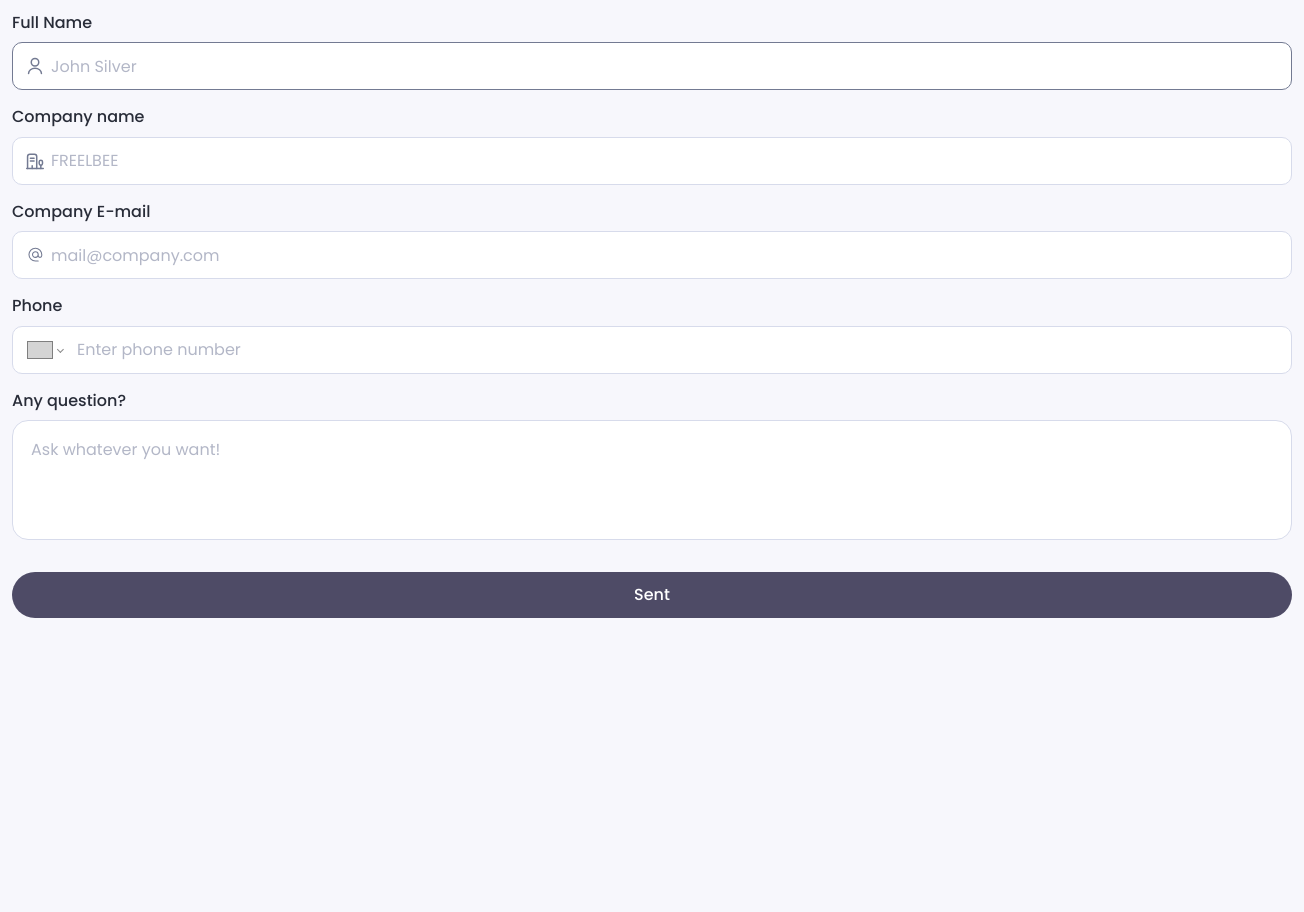
Test: Application form tests › should show erron if invalid email
Type "wrong.com" into the field with test id "landing-form-email" at x=652, y=255, box [12, 231, 1292, 279]
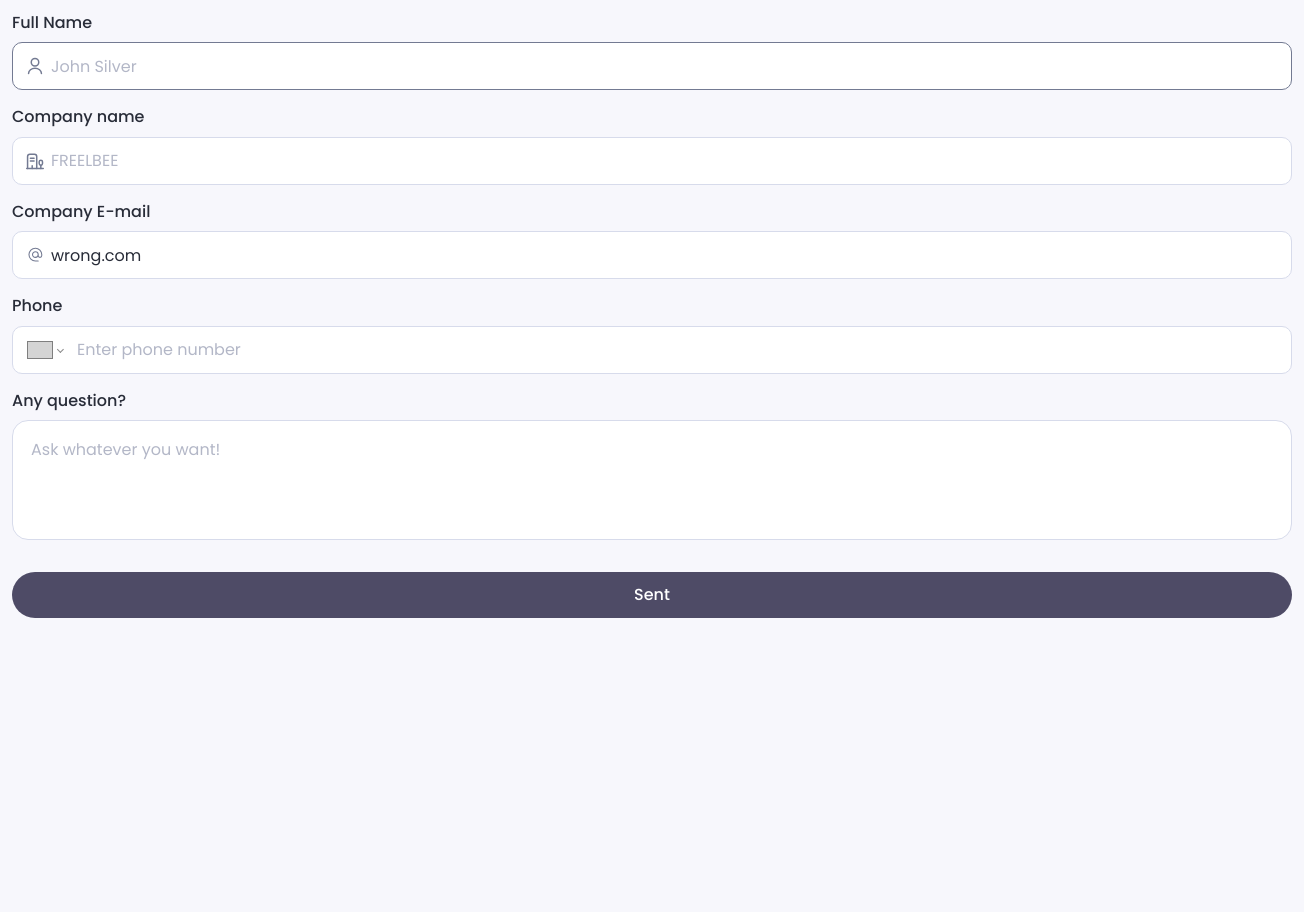
Type "9990091213" into the field with test id "landing-form-phone" at x=652, y=350, box [12, 326, 1292, 374]
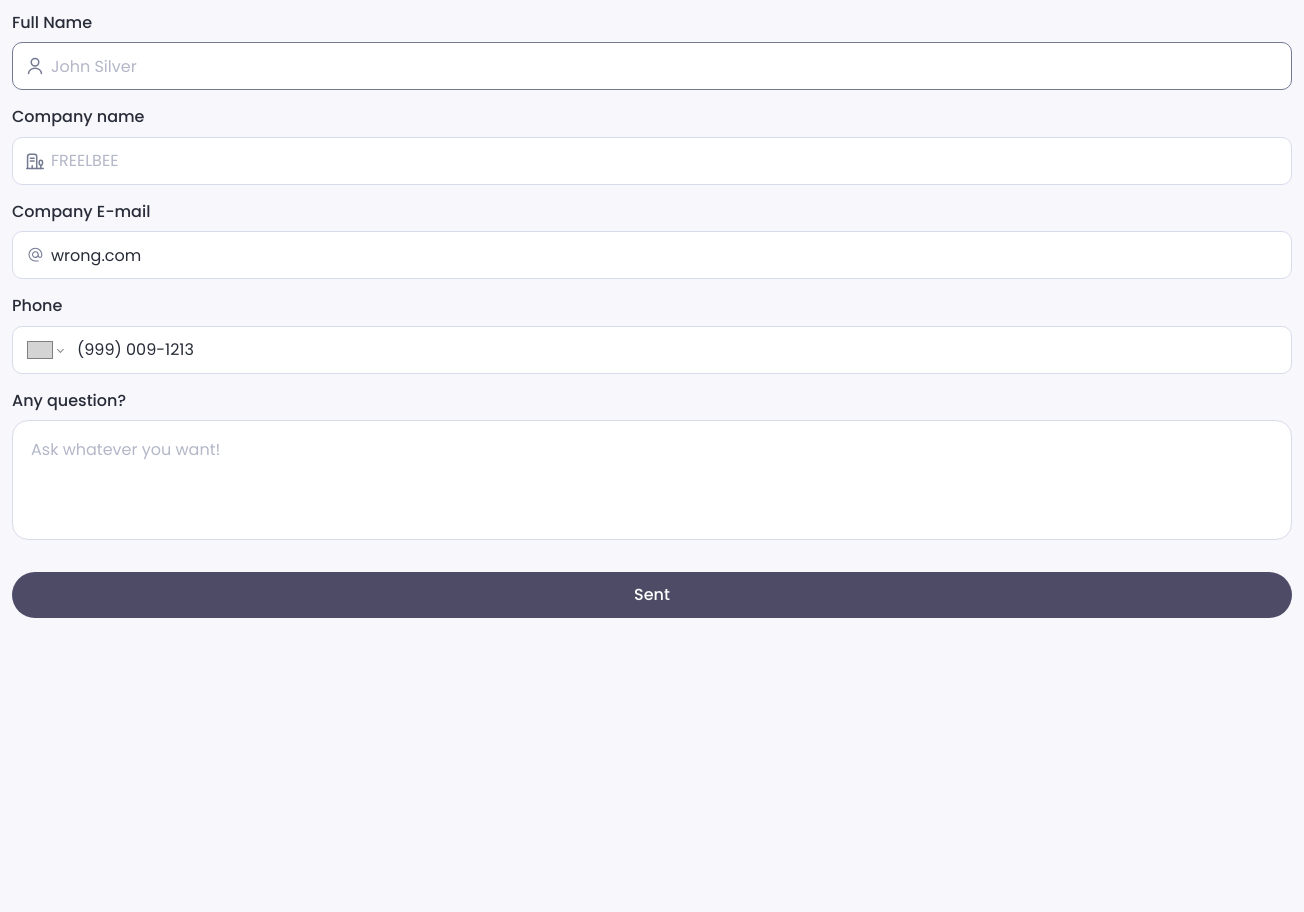
Type "Test Company" into the field with test id "landing-form-company" at x=652, y=161, box [12, 137, 1292, 185]
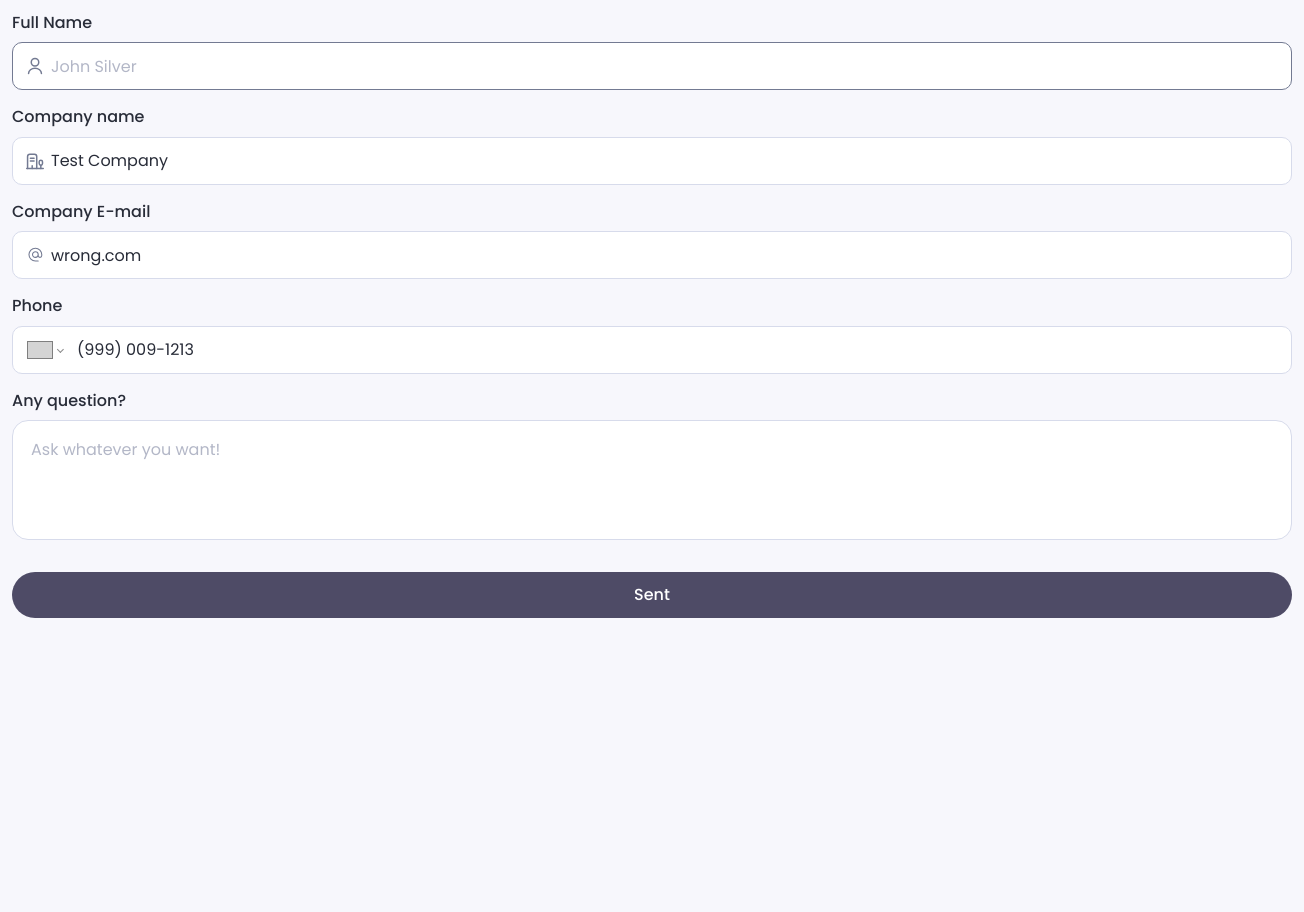
Type "User Name" into the field with test id "landing-form-name" at x=652, y=66, box [12, 42, 1292, 90]
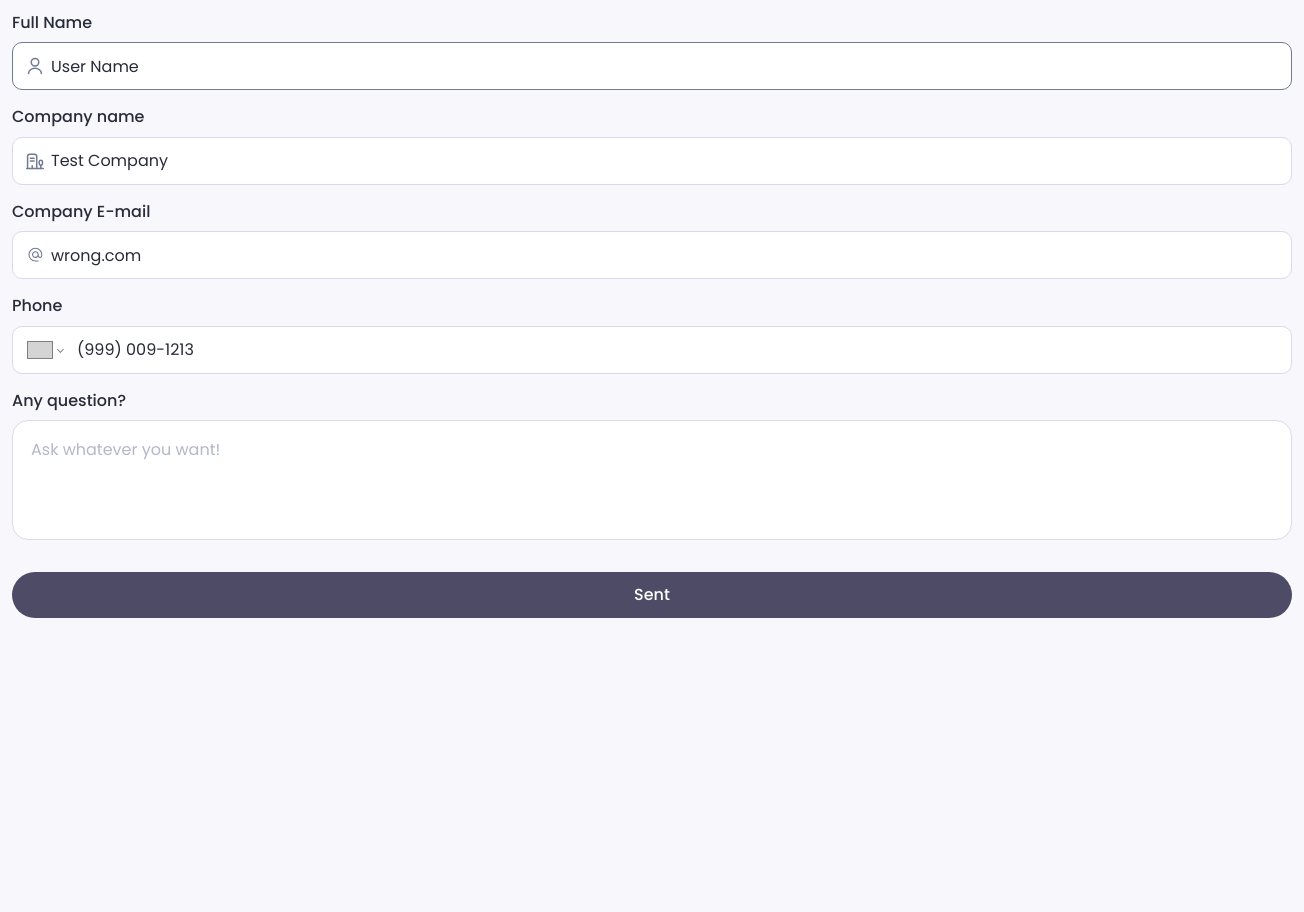
Type "Message text" into the text box with test id "landing-form-message" at x=658, y=480, box [29, 437, 1287, 523]
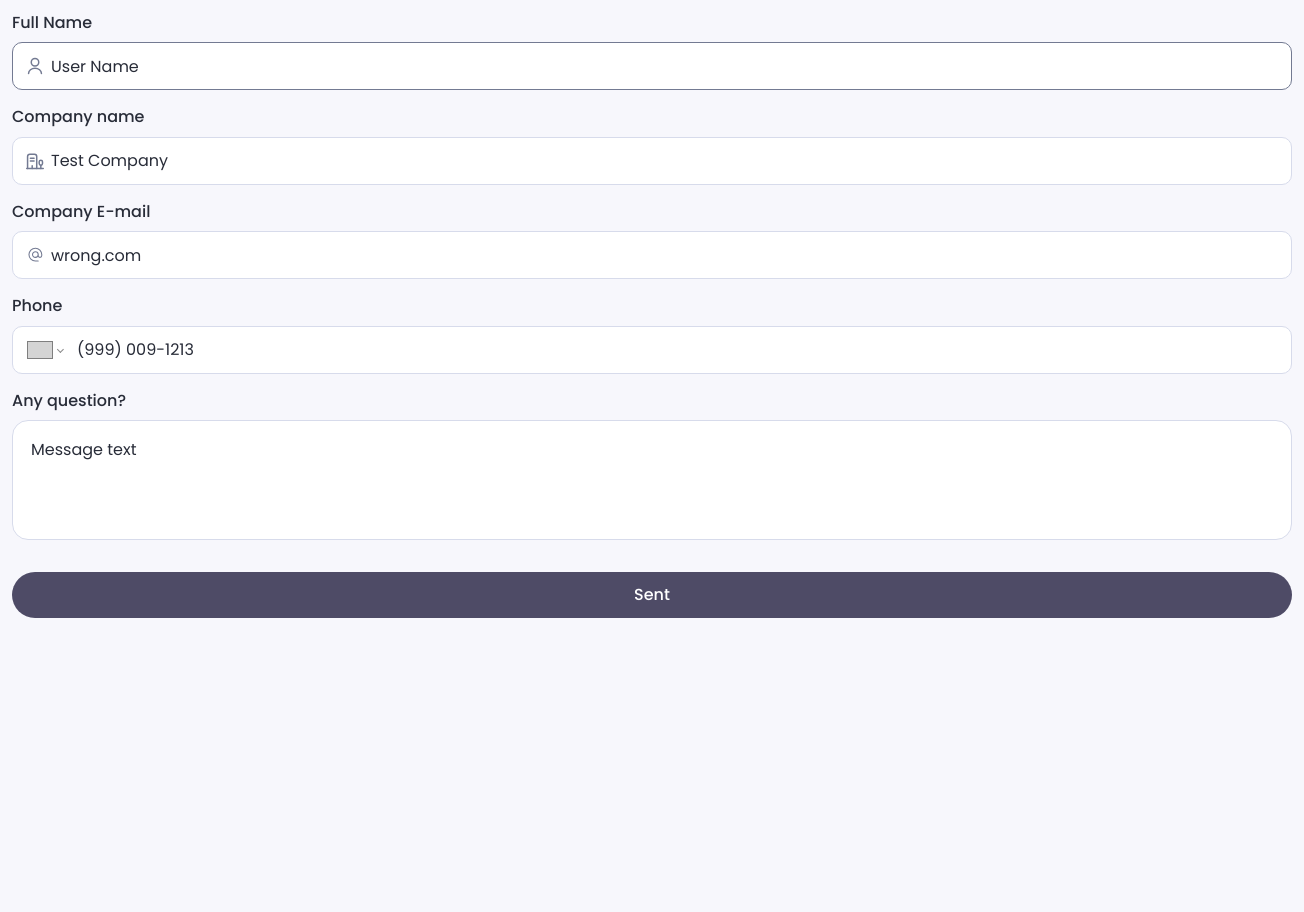
Click the button with test id "landing-form-submit" at x=652, y=595, box [12, 572, 1292, 618]
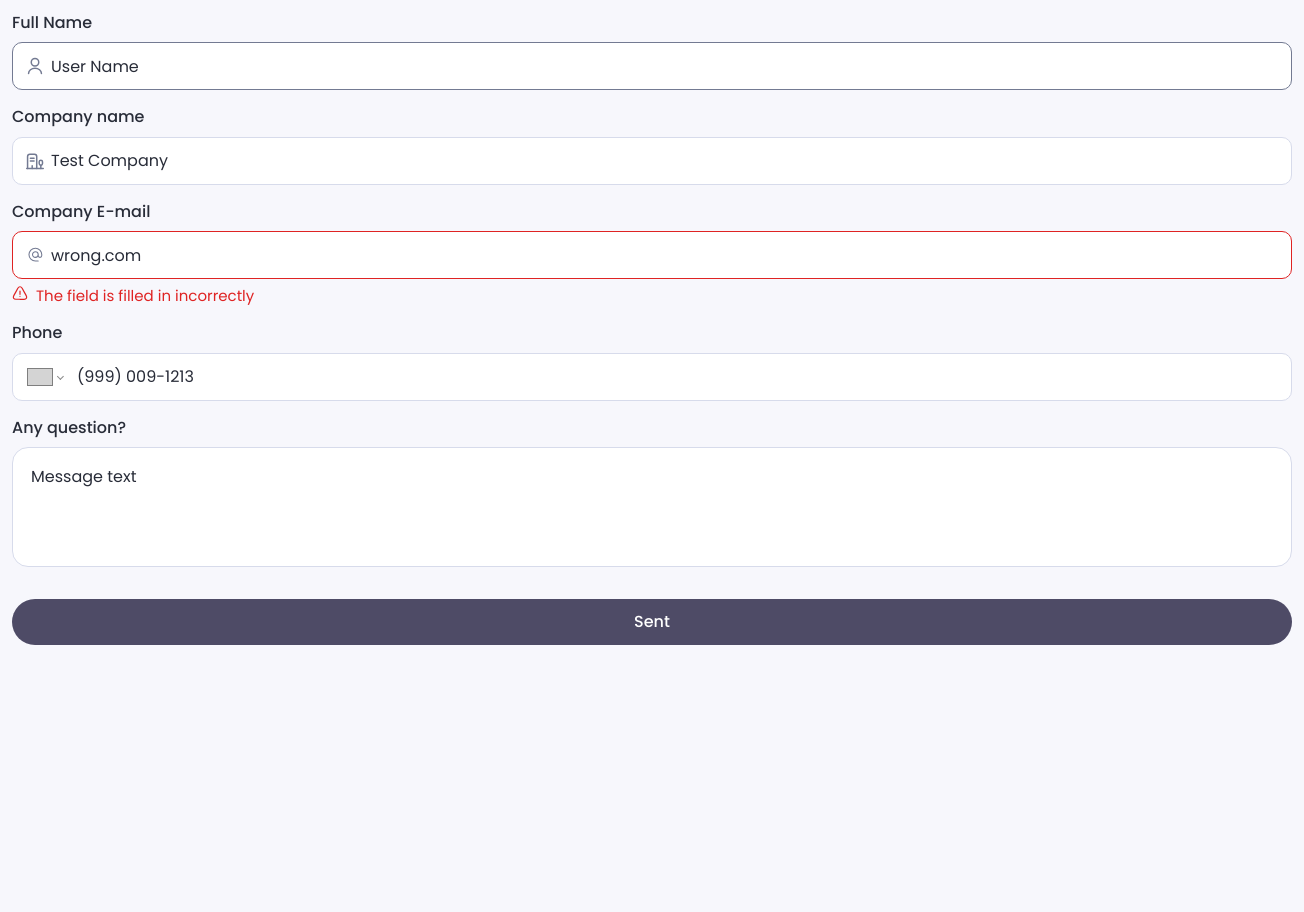
Expected: the text "The field is filled in incorrectly" is shown once, [36, 285, 254, 306]
